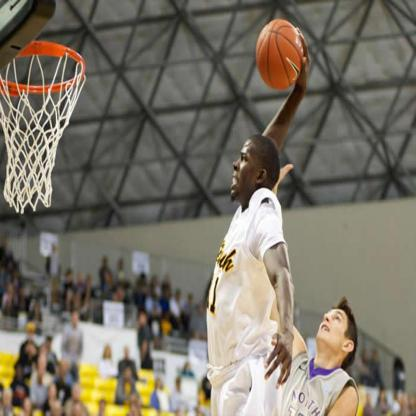face: (231, 137, 268, 199), (317, 310, 357, 333)
